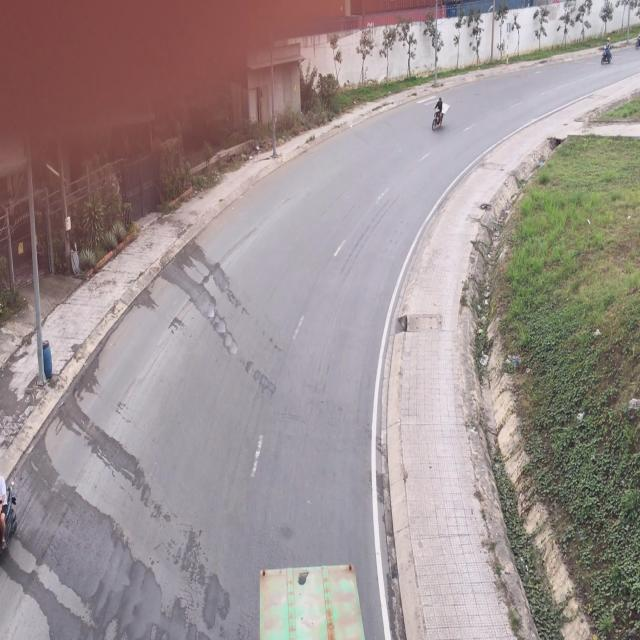motorbike: (0, 472, 17, 571), (431, 95, 445, 133)
